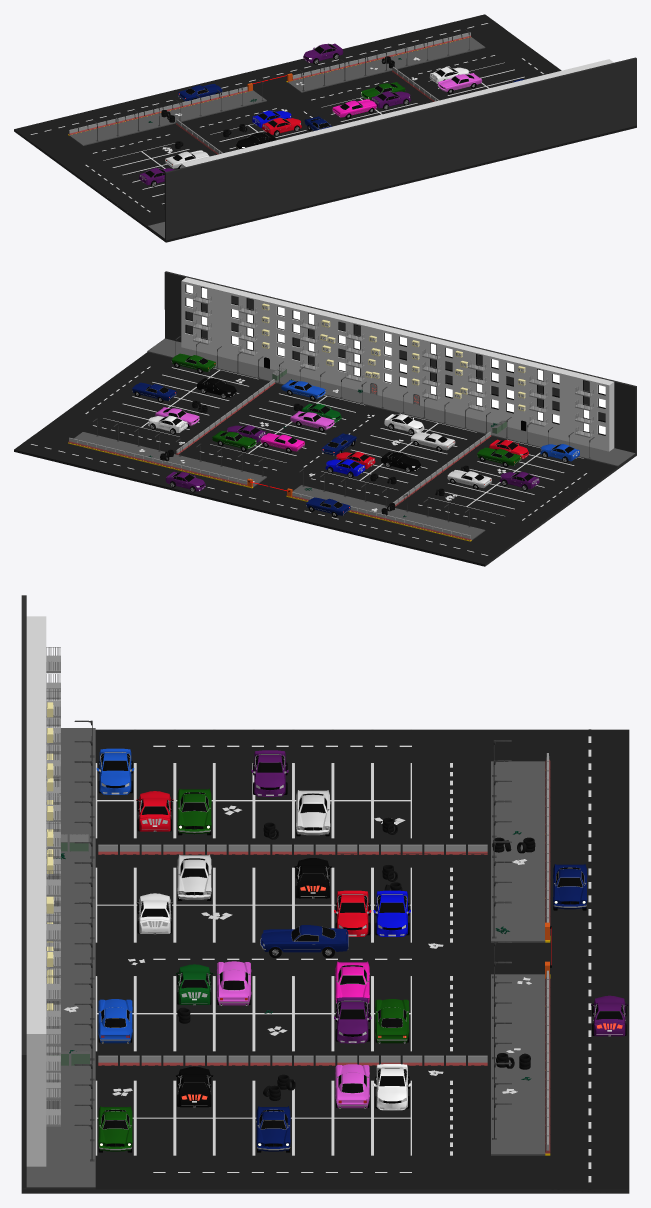
File: pokoj_parking.fbx
3 renders of one model, top to bottom at view 1: azimuth 30°, elevation 25°; view 2: azimuth 150°, elevation 25°; view 3: azimuth 270°, elevation 25°, orthographic. The views are drawn at different scales.
Parts seen in each view (by area): view 1: Pokoj, Pokoj.002, Pokoj.001, barierka betonowa 1, barierka betonowa 2, Budynek 2.001, Budynek 1, Budynek 1.001, Budynek 2, auto.007, auto.005, auto.004 (+9 smaller); view 2: Pokoj, Pokoj.002, Pokoj.001, Budynek 2.001, Budynek 1.001, Budynek 2, Budynek 1, barierka betonowa 1, barierka betonowa 2, barierki 2, barierki 2.001, barierki 1 (+23 smaller); view 3: Pokoj, Pokoj.001, Pokoj.002, Budynek 1.001, barierka betonowa 1.002, barierka betonowa 1.001, Budynek 2.001, Budynek 1, Budynek 2, mustang 1965.001, pipe_high.002, auto.004 (+29 smaller).
Boxes of the visible parts, x1,y1,x2,y2 form: Pokoj: (141,45,510,211); Pokoj.002: (14,98,292,242); Pokoj.001: (359,14,636,158); barierka betonowa 1: (292,32,470,80); barierka betonowa 2: (68,86,247,134); Budynek 2.001: (181,137,292,168); Budynek 1: (396,85,506,114); Budynek 1.001: (502,59,613,88); Budynek 2: (288,111,399,140); auto.007: (303,43,343,64); auto.005: (262,117,301,136); auto.004: (371,91,411,109); Pokoj: (140,302,509,535); Pokoj.002: (358,355,636,566); Pokoj.001: (14,271,291,482); Budynek 2.001: (502,355,614,451); Budynek 1.001: (181,277,292,373); Budynek 2: (395,329,506,423); Budynek 1: (288,303,399,399); barierka betonowa 1: (68,437,247,485); barierka betonowa 2: (292,492,470,540); barierki 2: (422,348,486,410); barierki 2.001: (529,374,593,436); barierki 1: (300,319,364,380); Pokoj: (21,718,629,1065); Pokoj.001: (21,931,629,1193); Pokoj.002: (21,595,629,852); Budynek 1.001: (26,929,60,1166); barierka betonowa 1.002: (98,844,487,854); barierka betonowa 1.001: (98,1055,487,1065); Budynek 2.001: (26,616,60,786); Budynek 1: (26,825,60,1010); Budynek 2: (26,720,60,902); mustang 1965.001: (260,925,348,952); pipe_high.002: (74,720,94,1161); auto.004: (334,997,371,1043).
Size of the model in its own units: 11014 by 1550 by 6150.
